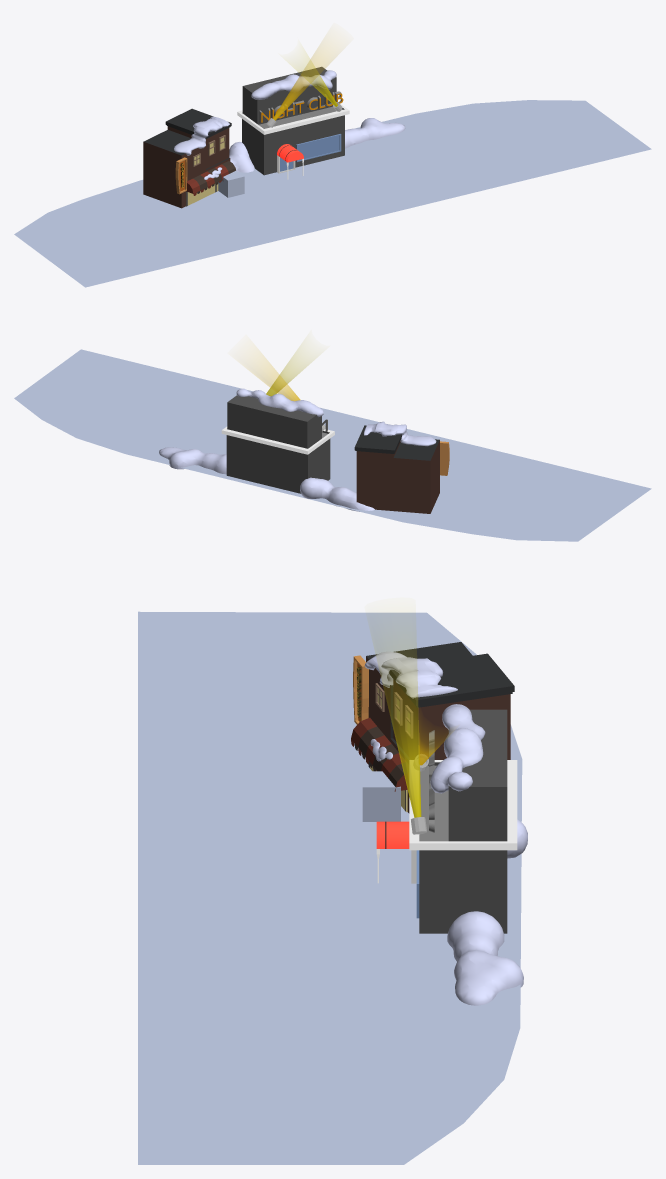
File: town.glb
3 renders of one model, top to bottom at view 1: azimuth 30°, elevation 25°; view 2: azimuth 150°, elevation 25°; view 3: azimuth 270°, elevation 25°, orthographic. The views are drawn at different scales.
Parts seen in each view (by area): view 1: ground, ground-clickable, coffee-shop, club, second-floor, snow, light-bucket, snow-3, snow-2, window, coffee-shop-cover, light-bucket-2 (+2 smaller); view 2: ground-clickable, ground, coffee-shop, club, second-floor, snow, snow-3, light-bucket, snow-2, light-bucket-2; view 3: ground, ground-clickable, club, coffee-shop, second-floor, snow, light-bucket-2, snow-3, snow-2, coffee-shop-cover, coffee-shop-clickable, cover (+1 smaller).
Part boxes in pixels (<box>): ground: <box>14,100,651,287</box>; ground-clickable: <box>41,108,650,284</box>; coffee-shop: <box>143,108,231,208</box>; club: <box>237,104,349,175</box>; second-floor: <box>242,66,336,124</box>; snow: <box>229,118,405,172</box>; light-bucket: <box>266,46,334,127</box>; snow-3: <box>251,70,336,99</box>; snow-2: <box>174,116,229,155</box>; window: <box>296,134,341,161</box>; coffee-shop-cover: <box>186,161,235,195</box>; light-bucket-2: <box>294,55,342,111</box>; ground-clickable: <box>25,350,626,527</box>; ground: <box>14,349,651,541</box>; coffee-shop: <box>354,425,439,513</box>; club: <box>221,426,334,493</box>; second-floor: <box>227,395,321,448</box>; snow: <box>159,447,374,511</box>; snow-3: <box>236,388,323,416</box>; light-bucket: <box>249,356,325,431</box>; snow-2: <box>364,421,436,446</box>; light-bucket-2: <box>266,349,311,396</box>; ground: <box>138,611,522,1164</box>; ground-clickable: <box>138,623,513,1164</box>; club: <box>409,760,517,933</box>; coffee-shop: <box>366,642,514,813</box>; second-floor: <box>448,709,507,841</box>; snow: <box>447,819,527,1005</box>; light-bucket-2: <box>377,650,426,834</box>; snow-3: <box>430,704,485,793</box>; snow-2: <box>364,651,457,698</box>; coffee-shop-cover: <box>351,717,408,791</box>; coffee-shop-clickable: <box>362,771,400,821</box>; cover: <box>376,821,409,848</box>.
Bounding box in the file's own units: 68.45 × 17.6 × 20.41.
Materials: 24 (1 with a texture image).
